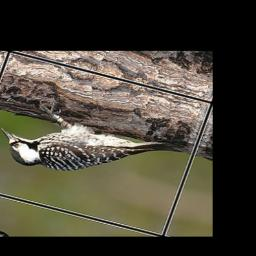Woodpecker: (0, 89, 192, 202)
